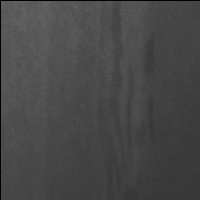inclusion: (102, 2, 134, 200), (136, 30, 159, 149)
